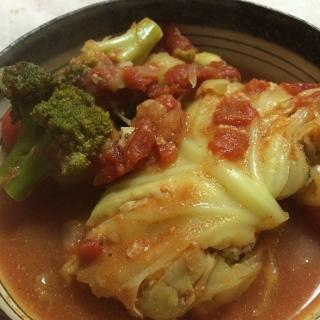Broccoli: (0, 58, 115, 204), (64, 15, 164, 99)
